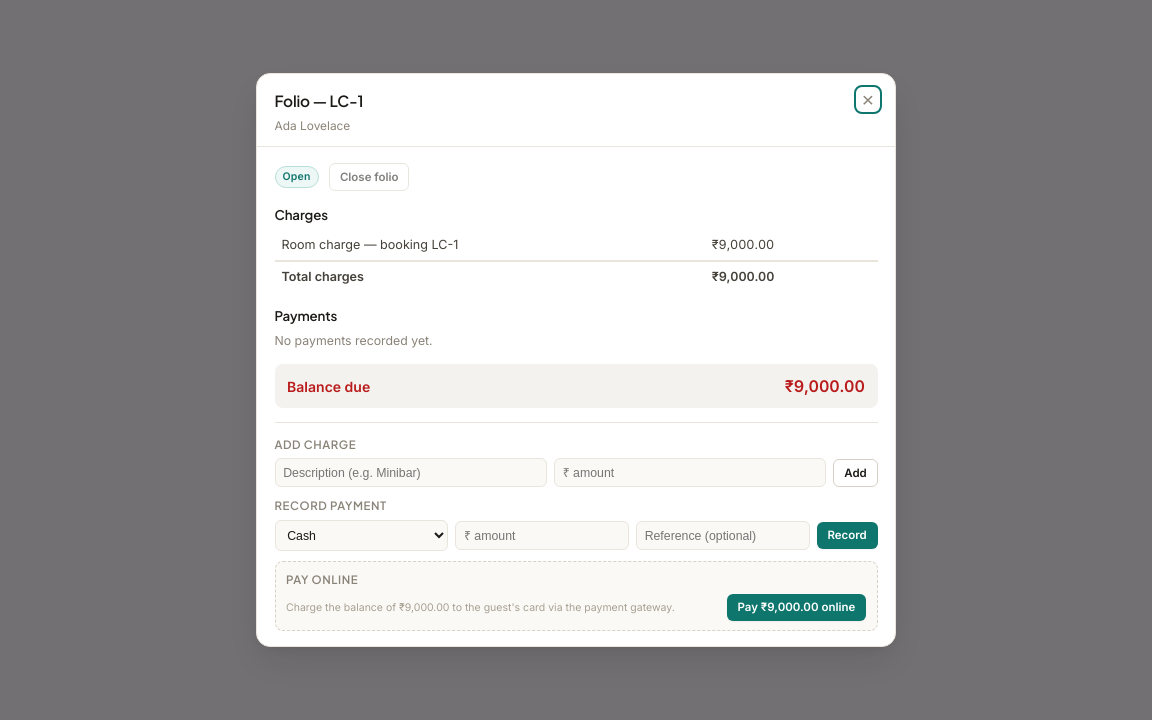
Test: FolioDialog › records a payment, posting rupees converted to paise
Expected: the text "Room charge — booking LC-1" is shown, x1=274 y1=230 x2=705 y2=261
Step 1. Type "9000" into the field named "Payment amount in rupees" → (542, 536), box x1=455 y1=521 x2=629 y2=550
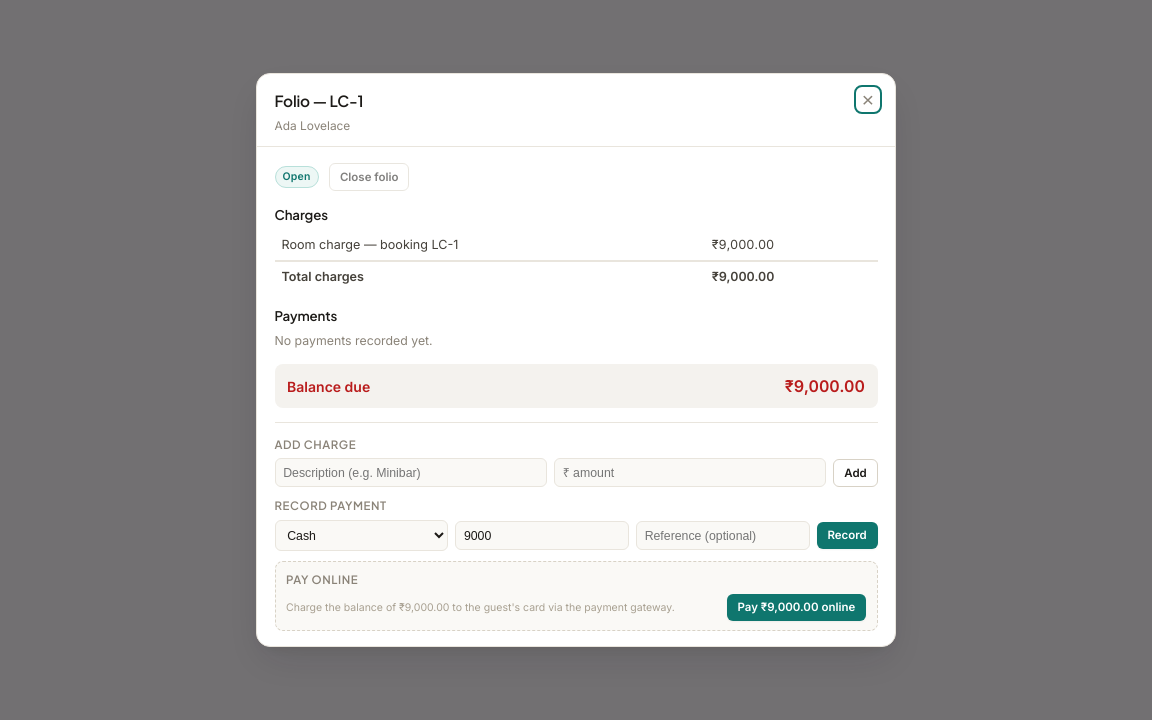
Step 2. Click the button "Record" → (847, 536), box x1=817 y1=522 x2=878 y2=550
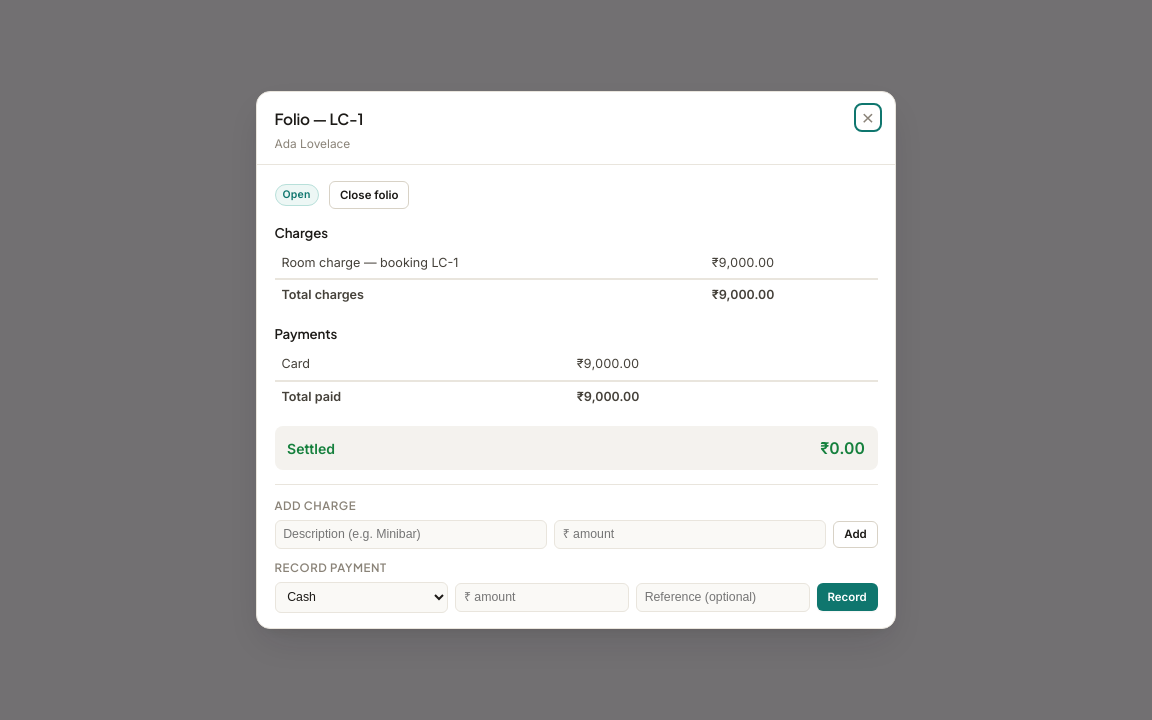
Now the text "Settled" is shown, box x1=287 y1=438 x2=335 y2=459
